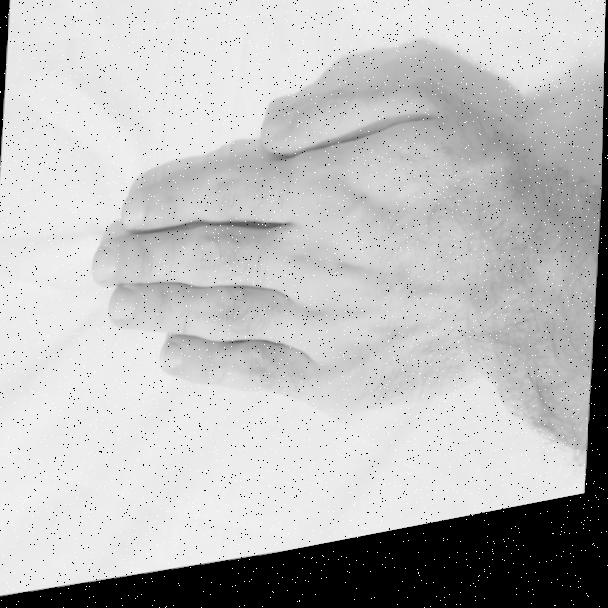five: (79, 59, 518, 483)
